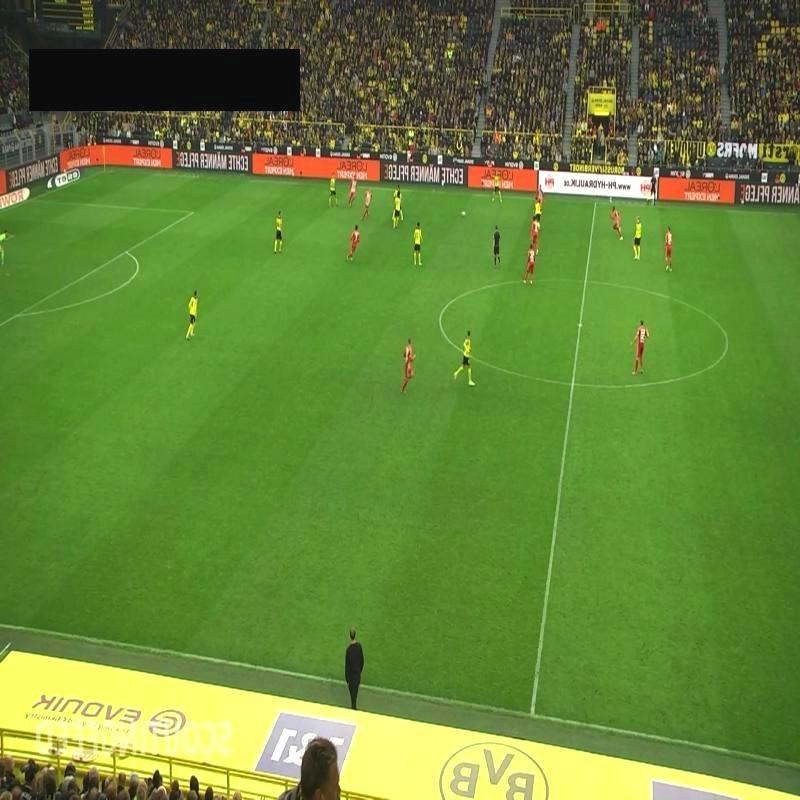1: (99, 163, 114, 177)
10: (119, 245, 134, 258)
11: (11, 306, 29, 322)
13: (589, 194, 603, 208)
14: (580, 274, 594, 288)
15: (564, 376, 580, 392)
16: (523, 703, 541, 726)
2: (26, 193, 40, 207)
7: (3, 228, 17, 242)
9: (186, 204, 200, 218)
c: (424, 302, 457, 332), (718, 332, 737, 358)
